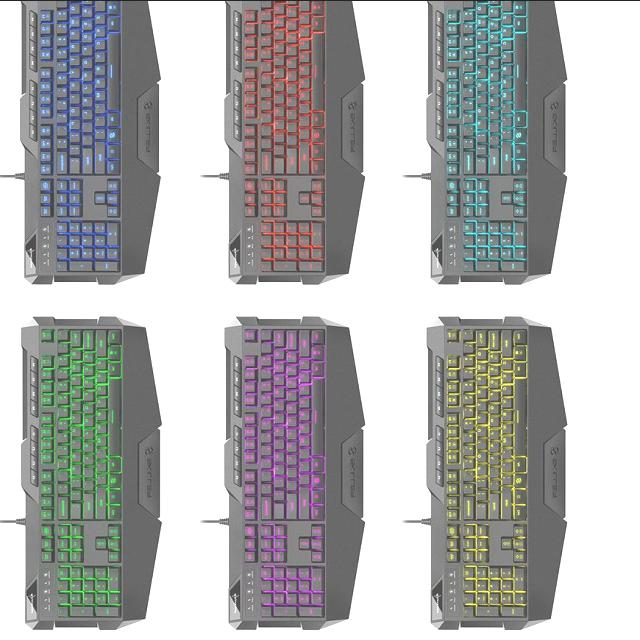keyboard: (37, 323, 125, 621), (241, 323, 329, 621), (34, 1, 126, 277), (444, 324, 528, 620), (241, 0, 328, 275), (443, 0, 530, 275)
